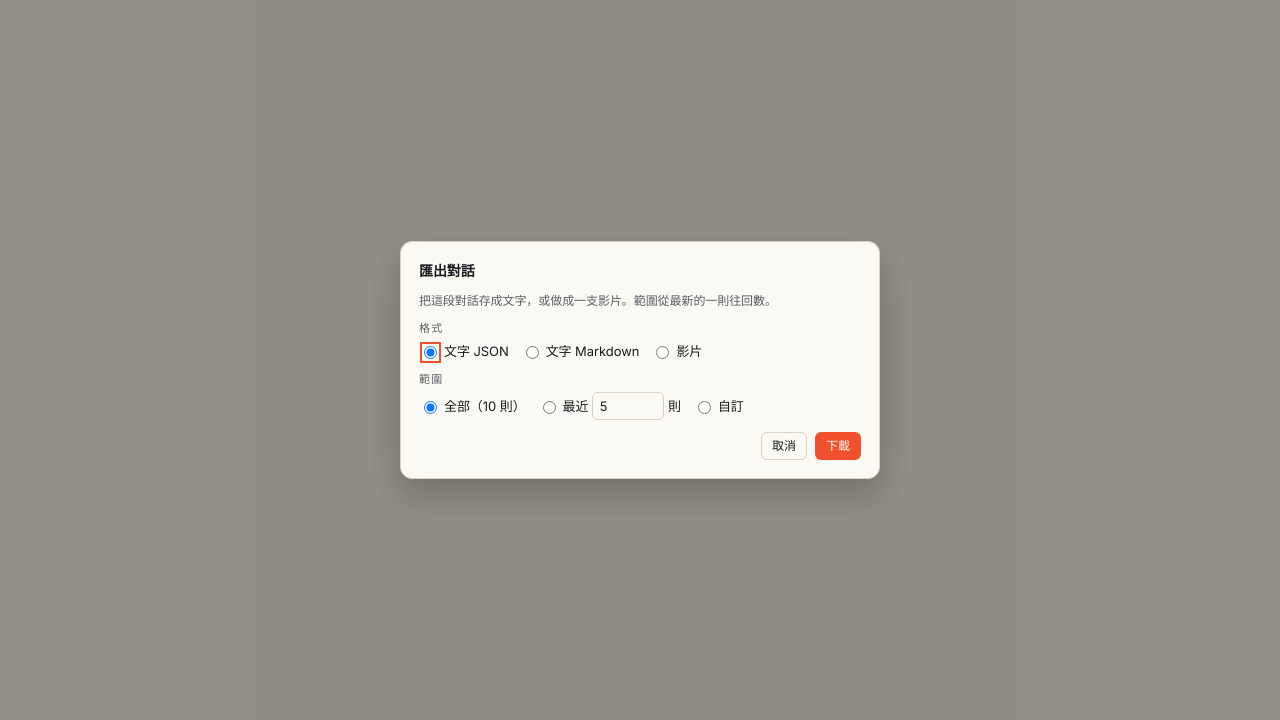
Scenario: ExportDialog — video › a text size the ceiling forbids is shown as the one it allows — the select and the result line agree
Expected: the text "全部（10 則）" is shown, [419,396,526,416]
Click the radio button with test id "export-kind-video" at (663, 352), box [656,346,669,359]
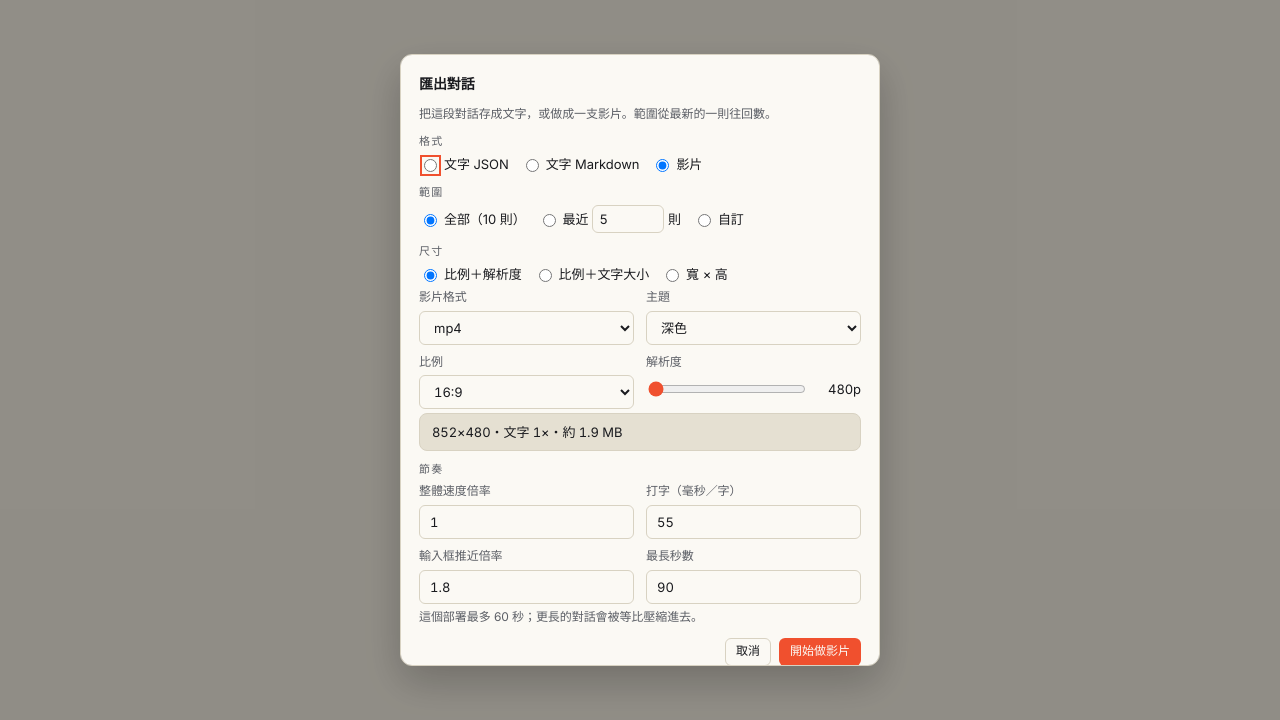
Result: the text "852×480・文字 1×・約 1.9 MB" is shown at [419,413,861,451]
Click the radio button with test id "export-size-mode-text" at (545, 276), box [539,269,552,282]
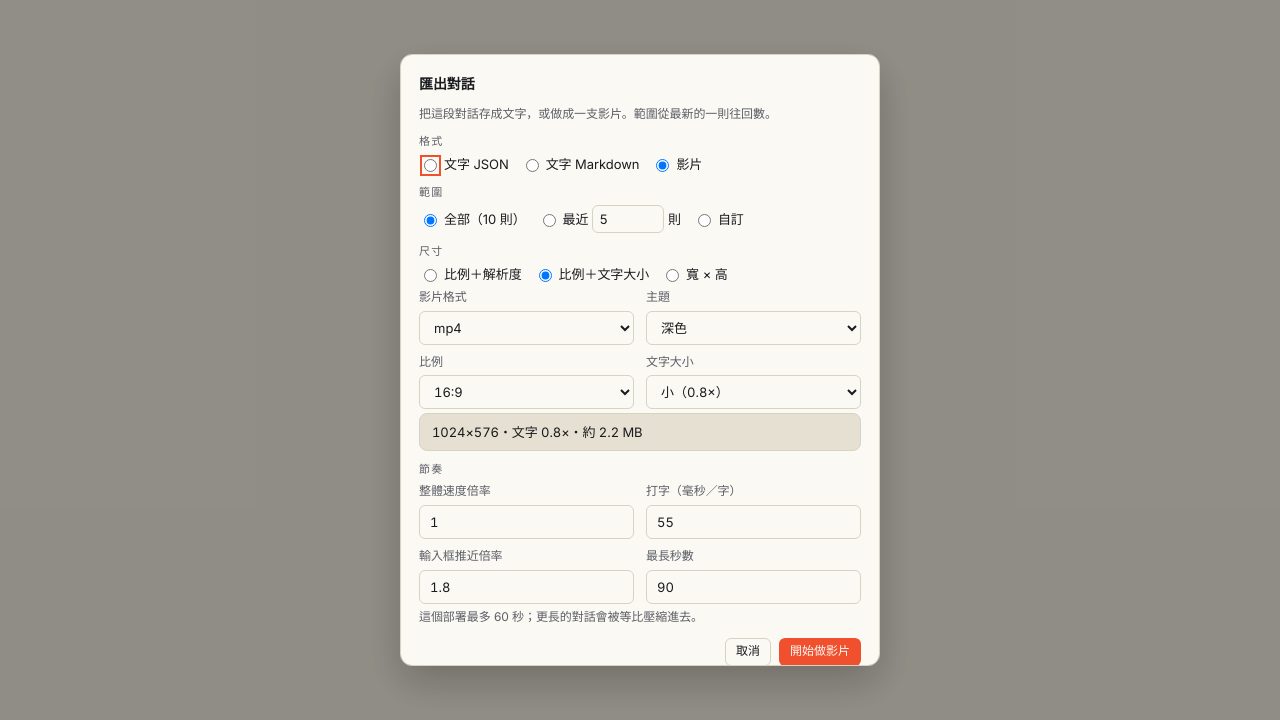
Result: the dropdown with test id "export-text-size" shows "小（0.8×）" at [646,375,861,409]
Result: the text with test id "export-size-result" shows "1024×576・文字 0.8×" at [432,424,642,440]
